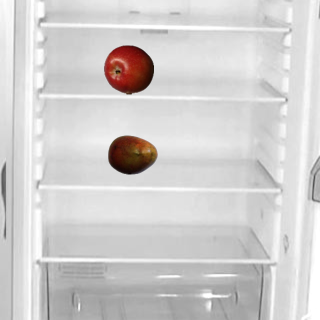Apple Braeburn: (103, 44, 153, 94)
Mango Red: (107, 129, 157, 179)
